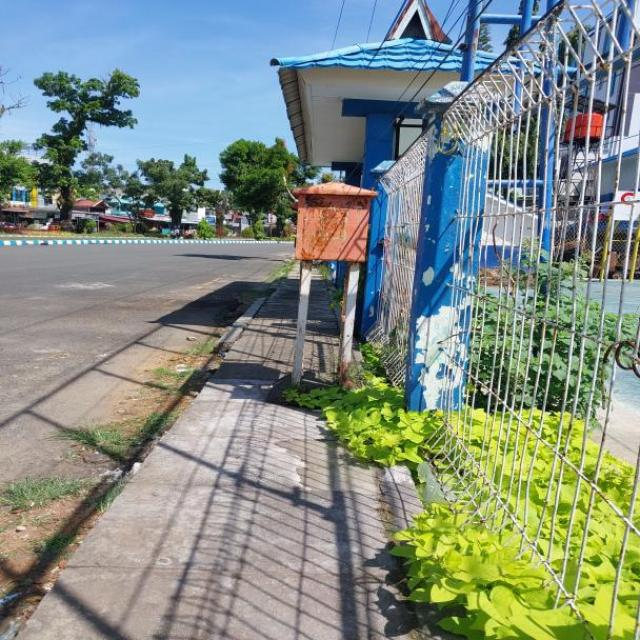barrier ahead at: (283, 178, 375, 394)
